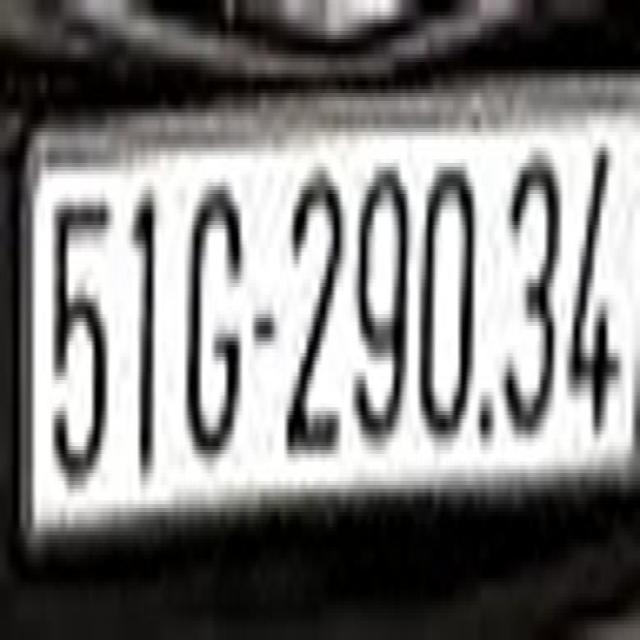0: (418, 149, 476, 444)
1: (128, 173, 160, 483)
2: (285, 159, 341, 458)
3: (501, 132, 559, 450)
4: (568, 122, 624, 452)
5: (50, 180, 112, 494)
9: (354, 153, 407, 444)
G: (183, 166, 244, 458)
